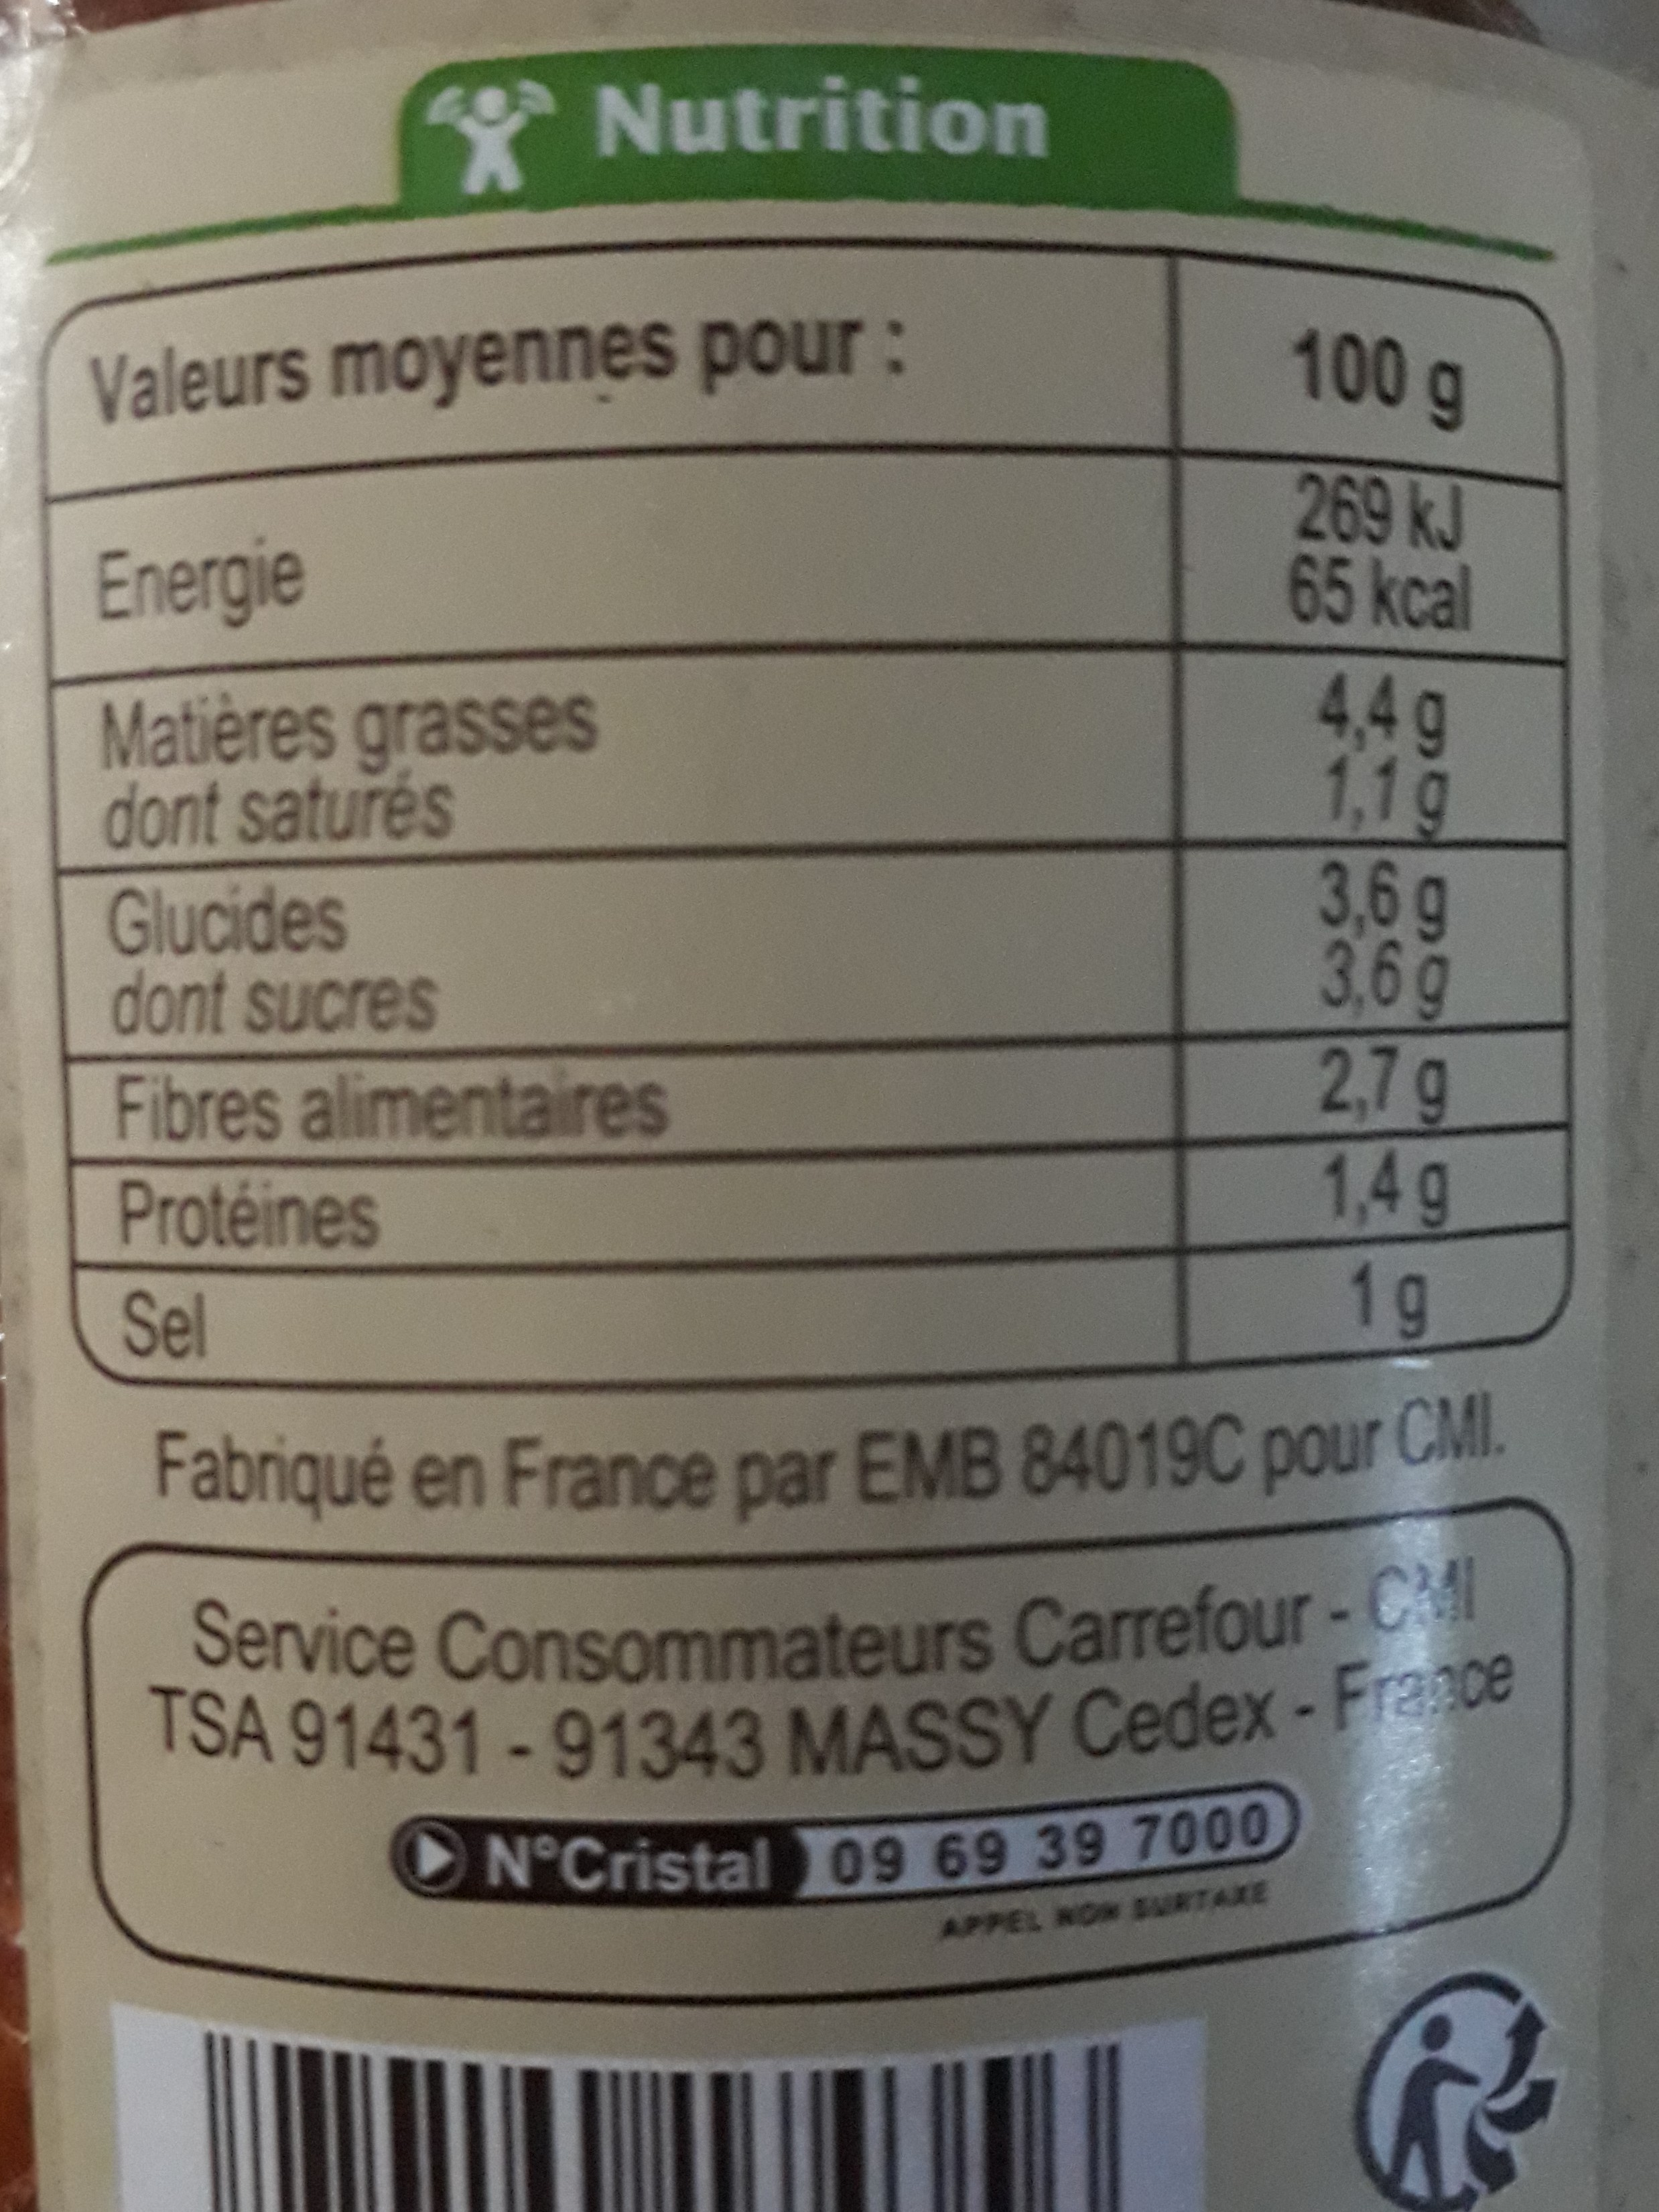column: (84, 247, 917, 1400), (1279, 256, 1480, 1393)
table: (40, 258, 1581, 1397)
